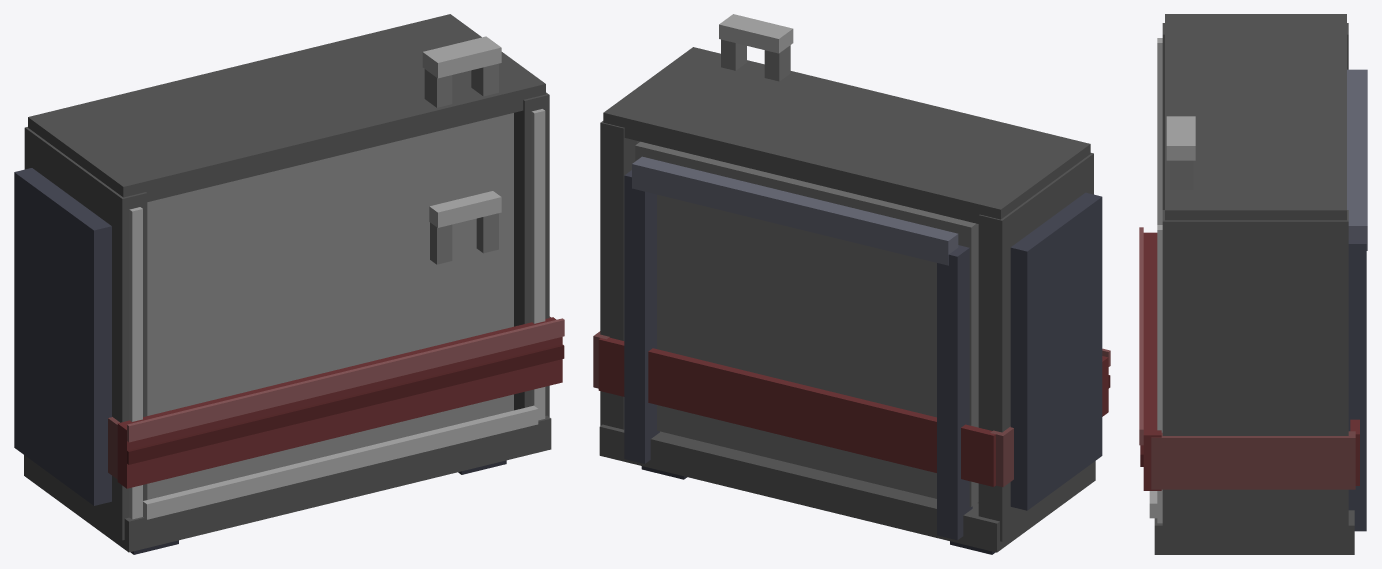
Rendered from CMU3DCMRollerBedSpawnFolded.glb.
The picture shows the model from 3 angles, left to right: view 1: azimuth 30°, elevation 25°; view 2: azimuth 150°, elevation 25°; view 3: azimuth 270°, elevation 25°; orthographic projection. The views are drawn at different scales.
Visible parts, largest first — view 1: nested gray cushion, upper frame rail, left nested bracket, folded side tube (×2), red retaining strap, lower frame rail, strap upper fold, front lower edge highlight, front tube highlight (×2), strap dark crease, nested handle bridge (×2), nested handle upright (×4); view 2: folded cushion rear, upper frame rail, left nested bracket, rear strap, folded side tube (×2), rear nested upright (×2), lower frame rail, rear folded cross rail, nested handle bridge, nested handle upright (×2), strap wrap around edge; view 3: folded side tube (×2), upper frame rail, strap wrap around edge, rear nested upright, red retaining strap, rear folded cross rail, front tube highlight (×2), lower frame rail, nested handle bridge, strap upper fold, nested handle upright, rear strap.
Part boxes in pixels (x1=…): nested gray cushion: x1=147, y1=113, x2=513, y2=499; upper frame rail: x1=28, y1=14, x2=545, y2=201; left nested bracket: x1=14, y1=168, x2=111, y2=505; folded side tube (×2): x1=24, y1=92, x2=549, y2=540; red retaining strap: x1=117, y1=317, x2=562, y2=488; lower frame rail: x1=24, y1=415, x2=551, y2=552; strap upper fold: x1=127, y1=318, x2=564, y2=442; front lower edge highlight: x1=143, y1=405, x2=538, y2=519; front tube highlight (×2): x1=129, y1=109, x2=545, y2=519; strap dark crease: x1=127, y1=344, x2=564, y2=464; nested handle bridge (×2): x1=422, y1=36, x2=501, y2=227; nested handle upright (×4): x1=424, y1=63, x2=498, y2=264; folded cushion rear: x1=635, y1=141, x2=978, y2=507; upper frame rail: x1=603, y1=47, x2=1090, y2=223; left nested bracket: x1=1010, y1=192, x2=1102, y2=510; rear strap: x1=598, y1=337, x2=995, y2=486; folded side tube (×2): x1=600, y1=121, x2=1093, y2=541; rear nested upright (×2): x1=624, y1=170, x2=972, y2=540; lower frame rail: x1=599, y1=424, x2=1095, y2=552; rear folded cross rail: x1=632, y1=156, x2=958, y2=265; nested handle bridge: x1=719, y1=14, x2=793, y2=53; nested handle upright (×2): x1=721, y1=39, x2=790, y2=81; strap wrap around edge: x1=990, y1=426, x2=1013, y2=486; folded side tube (×2): x1=1162, y1=23, x2=1348, y2=546; upper frame rail: x1=1165, y1=14, x2=1346, y2=220; strap wrap around edge: x1=1151, y1=431, x2=1355, y2=489; rear nested upright: x1=1348, y1=240, x2=1366, y2=531; red retaining strap: x1=1143, y1=232, x2=1161, y2=490; rear folded cross rail: x1=1347, y1=69, x2=1367, y2=250; front tube highlight (×2): x1=1157, y1=38, x2=1162, y2=523; lower frame rail: x1=1154, y1=510, x2=1354, y2=554; nested handle bridge: x1=1166, y1=116, x2=1195, y2=160; strap upper fold: x1=1139, y1=227, x2=1143, y2=445; nested handle upright: x1=1170, y1=160, x2=1193, y2=189; rear strap: x1=1350, y1=419, x2=1359, y2=485.
Size of the model in its own units: 0.579 by 0.52 by 0.267.
